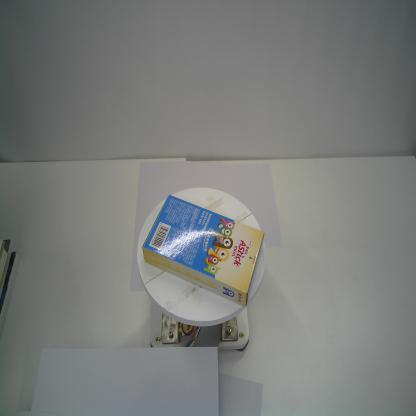Dessert: (142, 192, 265, 309)
